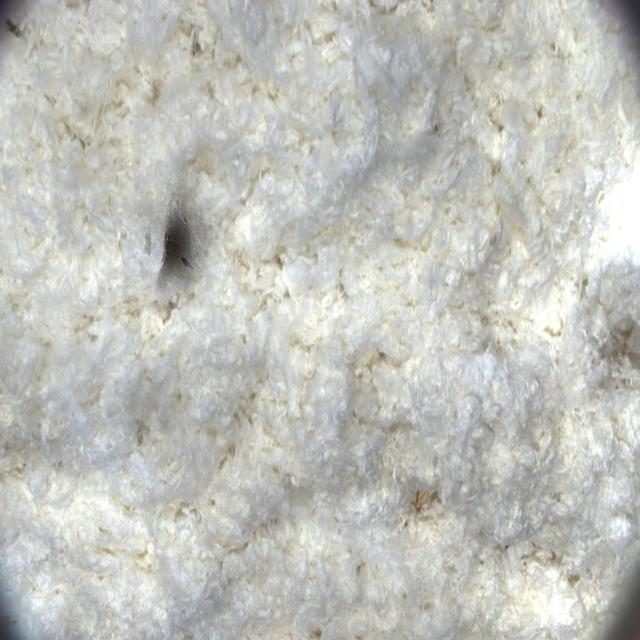dust: (124, 173, 240, 314)
